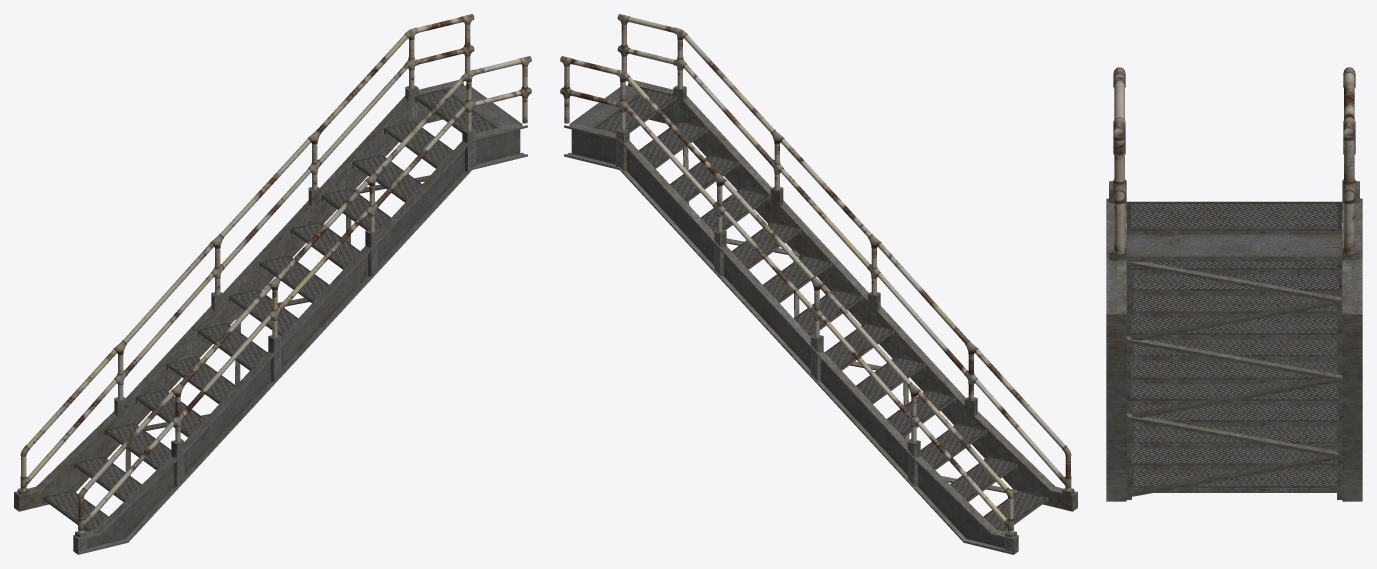
Rendered from staircase.fbx.
3 renders of one model, left to right at view 1: azimuth 30°, elevation 25°; view 2: azimuth 150°, elevation 25°; view 3: azimuth 270°, elevation 25°, orthographic. The views are drawn at different scales.
Visible parts, largest first — view 1: staircase; view 2: staircase; view 3: staircase.
Part boxes in pixels (x1,y1,x2,y2): staircase: (14, 14, 531, 554); staircase: (560, 14, 1077, 554); staircase: (1106, 67, 1362, 501).
Bounding box in the file's own units: 821 × 664 × 200.
